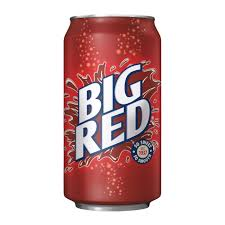can: (64, 15, 162, 212)
